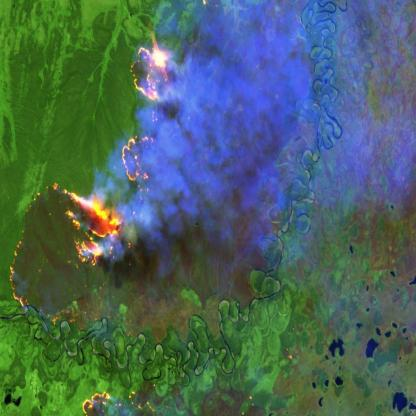fire: (8, 40, 176, 331), (79, 382, 156, 416)
